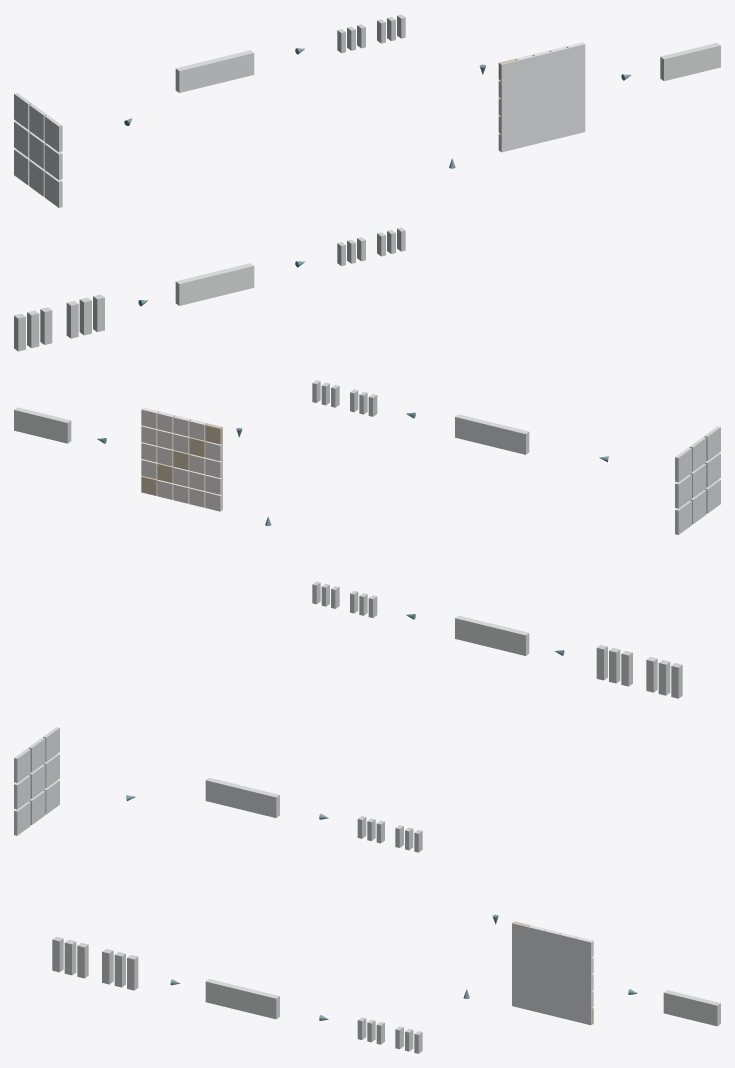
The model's file is clip.glb.
3 views of the same model, one above another, from view 1: azimuth 30°, elevation 25°; view 2: azimuth 150°, elevation 25°; view 3: azimuth 330°, elevation 25° (orthographic). The views are drawn at different scales.
Visible parts, largest first — view 1: Pairwise cosine · similarities · N × N, Image encoder, Text encoder, Symmetric · contrastive objective, Image batch; view 2: Text encoder, Image encoder, Symmetric · contrastive objective; view 3: Pairwise cosine · similarities · N × N, Text encoder, Image encoder, Symmetric · contrastive objective.
Part boxes in pixels (x1,y1,x2,y2): Pairwise cosine · similarities · N × N: (500, 44, 585, 152); Image encoder: (175, 50, 254, 92); Text encoder: (175, 263, 254, 305); Symmetric · contrastive objective: (660, 43, 720, 81); Image batch: (44, 115, 62, 152); Text encoder: (455, 615, 529, 655); Image encoder: (455, 414, 529, 454); Symmetric · contrastive objective: (14, 407, 71, 443); Pairwise cosine · similarities · N × N: (512, 922, 591, 1025); Text encoder: (205, 979, 279, 1019); Image encoder: (205, 777, 279, 817); Symmetric · contrastive objective: (663, 990, 720, 1026).
Bounding box in the file's own units: 23.5 × 8.13 × 2.62.
